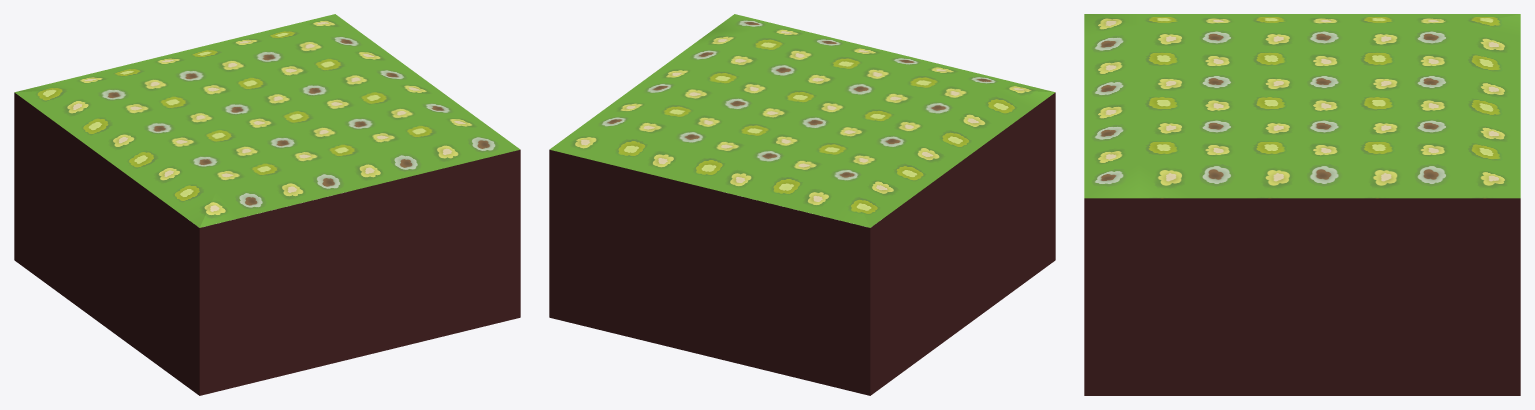
The model's file is field_8x8.obj.
The picture shows the model from 3 angles, left to right: view 1: azimuth 30°, elevation 25°; view 2: azimuth 150°, elevation 25°; view 3: azimuth 270°, elevation 25°; orthographic projection. The views are drawn at different scales.
Visible parts, largest first — view 1: pasted__pCube1 group, polySurface7 polySurface5; view 2: pasted__pCube1 group, polySurface7 polySurface5; view 3: pasted__pCube1 group, polySurface7 polySurface5.
Part boxes in pixels (box(x1,y1,x2,y2)): pasted__pCube1 group: box(14, 92, 520, 395); polySurface7 polySurface5: box(15, 14, 519, 227); pasted__pCube1 group: box(549, 92, 1055, 395); polySurface7 polySurface5: box(550, 14, 1054, 227); pasted__pCube1 group: box(1084, 198, 1520, 395); polySurface7 polySurface5: box(1084, 14, 1520, 198).
Size of the model in its own units: 1600 by 848 by 1600.
